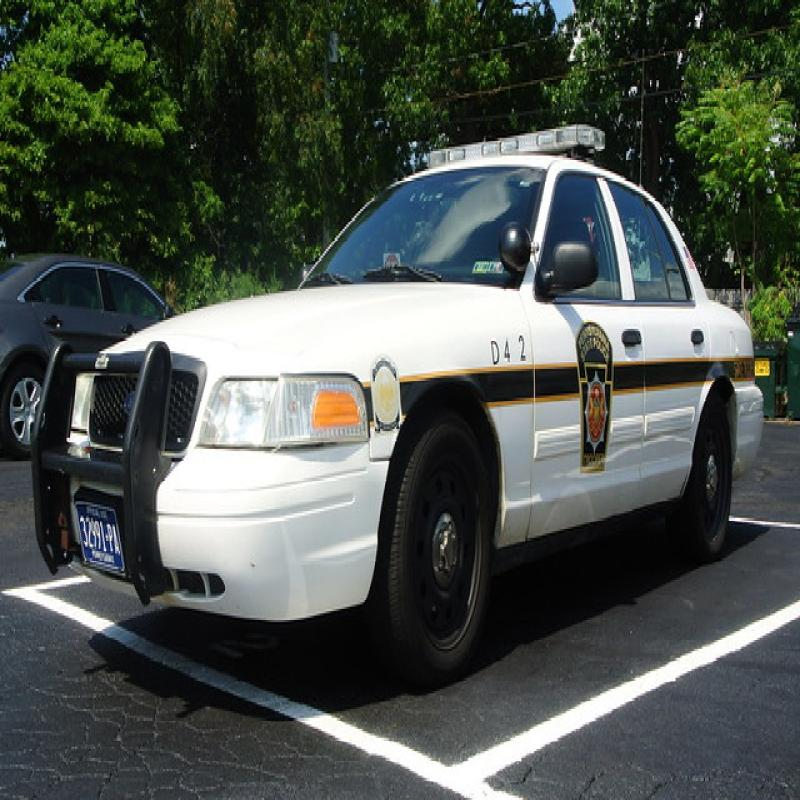AmbulanceSiren: (414, 111, 609, 173)
